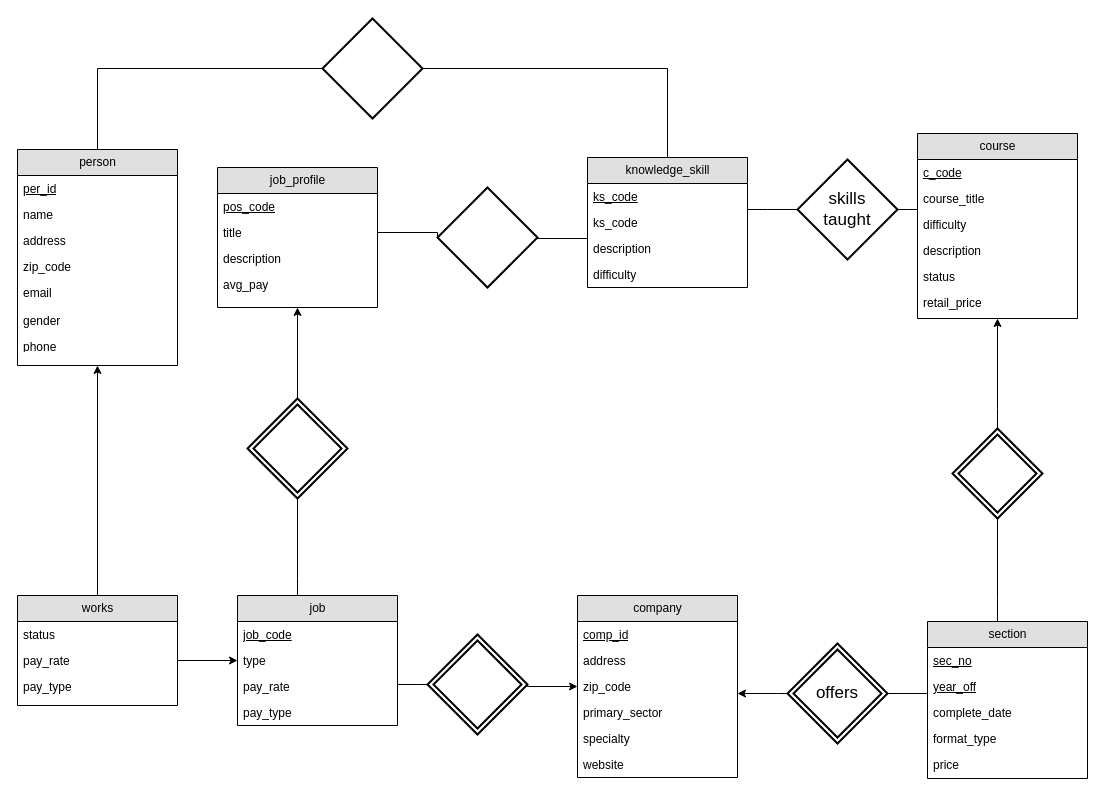
This 1105x797 diagram has some shape labels left out. The shapes that lost their labels are listed below. From the top down, each one's centre as x and y in pixels, then its label:
(x=372, y=68): skill_set
(x=487, y=237): skills required
(x=297, y=448): job_to profile
(x=997, y=473): course section
(x=477, y=684): job company
